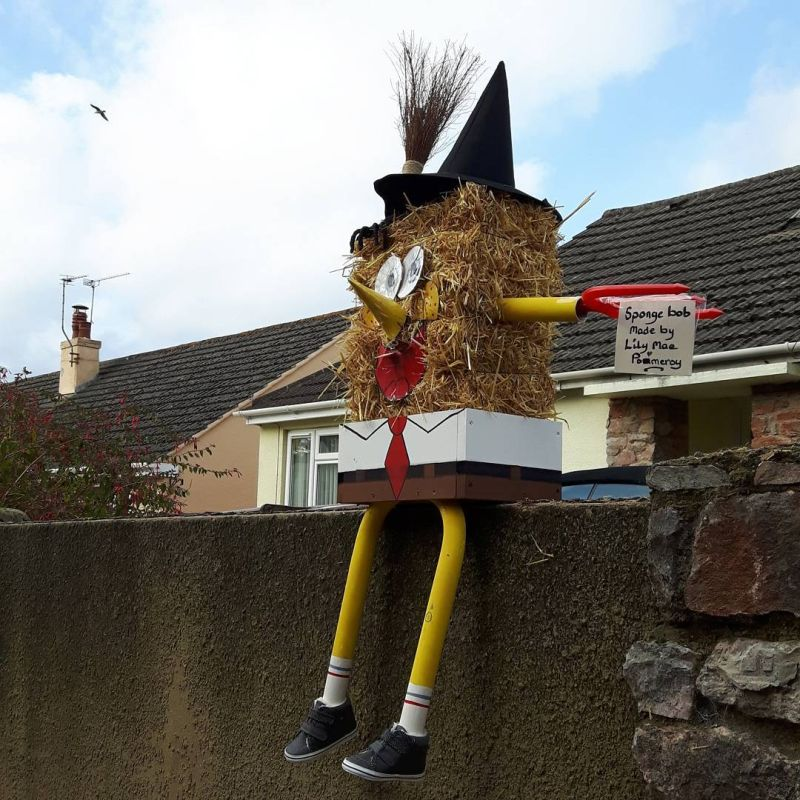person-like: (273, 49, 628, 789)
